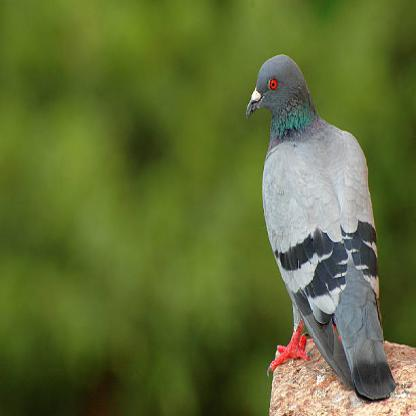Flying Rat: (250, 62, 408, 399)
